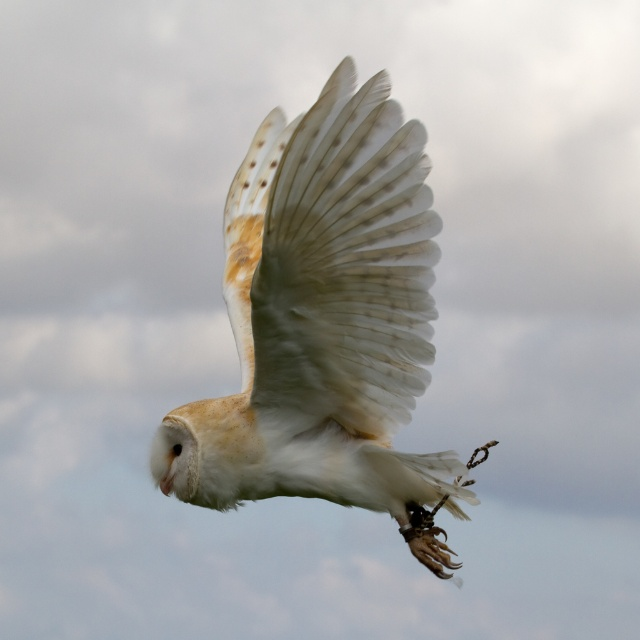Owl: (150, 56, 481, 576)
